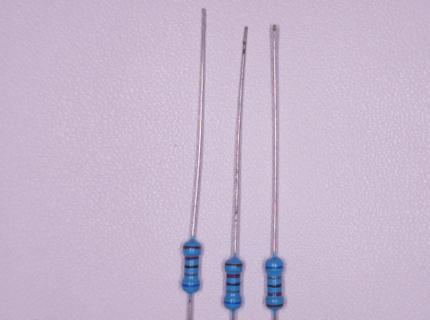Black band: (267, 284, 282, 288), (185, 265, 199, 269), (226, 282, 240, 286)
Blue band: (224, 300, 242, 304), (265, 265, 283, 269), (182, 283, 199, 287)
Brown band: (183, 245, 201, 249), (266, 303, 284, 307), (225, 263, 243, 266)
Grey band: (184, 272, 198, 277), (267, 276, 282, 280), (226, 290, 240, 294)
Red band: (268, 292, 282, 297), (227, 273, 240, 278), (184, 256, 199, 260)
